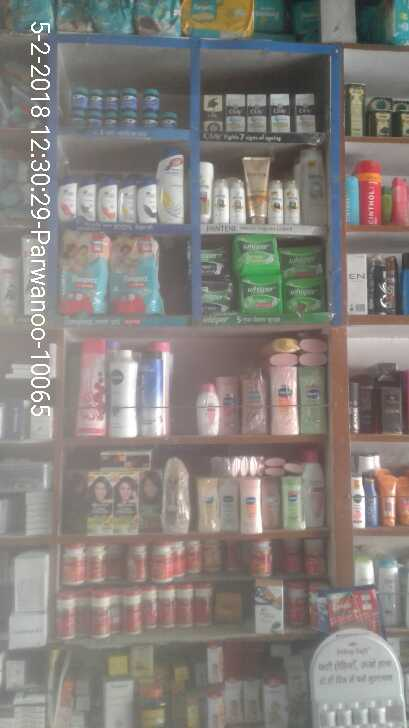vicks: (62, 83, 183, 132)
